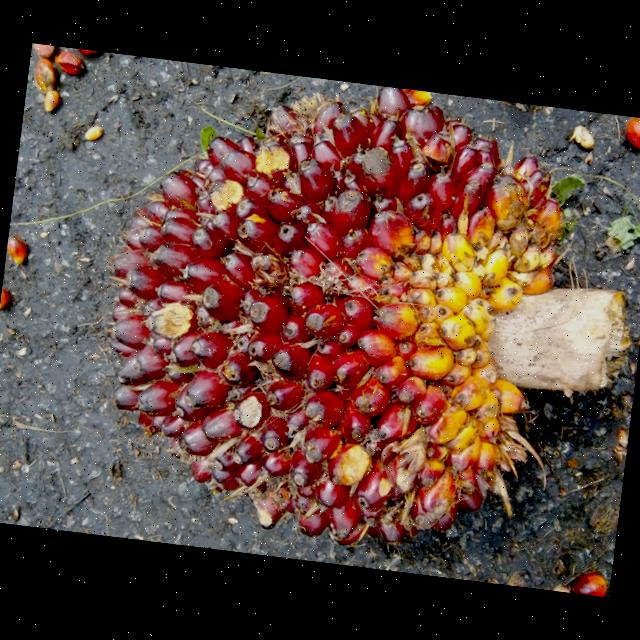Ripe: (111, 86, 629, 544)
